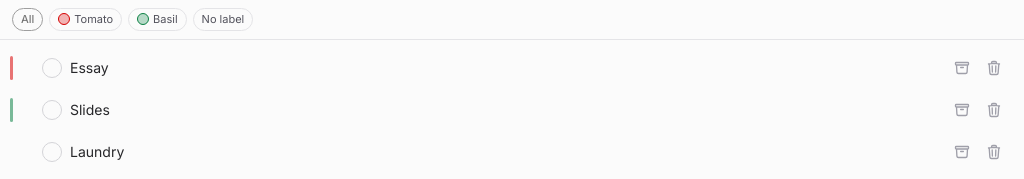
Test: CalendarTaskDock: ラベルで絞る › 時刻の無い To-Do の色ごとのチップと「ラベルなし」で絞り、もう一度押すとすべてに戻る
Click the button "Tomato" at [86, 19], box [49, 8, 122, 30]
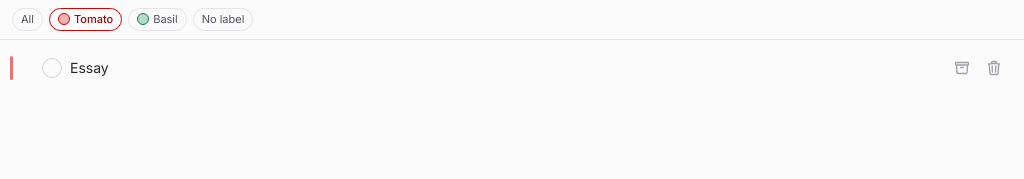
Check: the button "Essay" is shown, box [70, 58, 942, 78]
Check: the button "Slides" is gone
Click the button "No label" at [223, 19], box [193, 8, 253, 30]
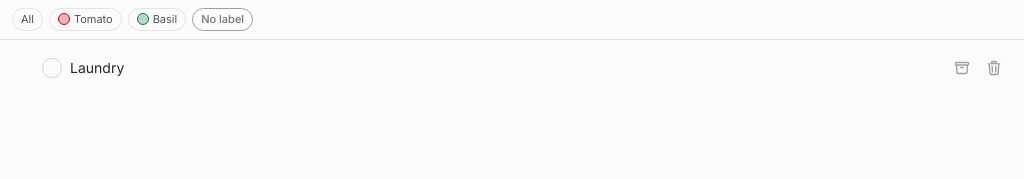
Check: the button "Laundry" is shown, box [70, 58, 942, 78]
Check: the button "Essay" is gone
Click the button "No label" at [223, 19], box [192, 8, 253, 30]
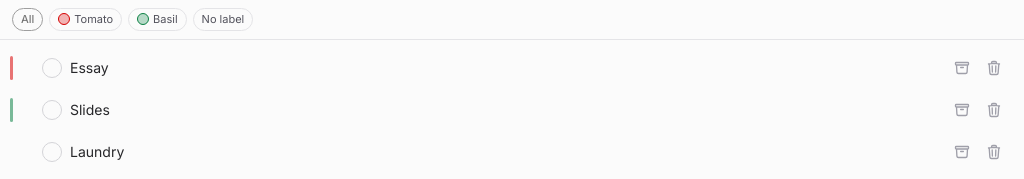
Check: the button "Slides" is shown, box [70, 100, 942, 120]
